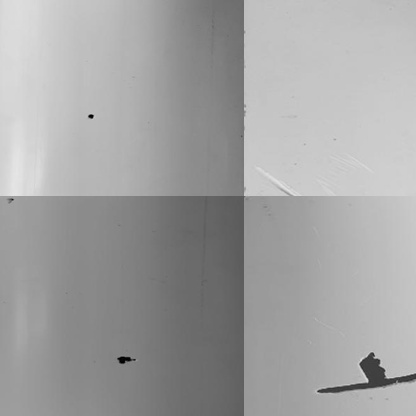kongdong: (314, 349, 413, 394), (116, 353, 136, 365), (85, 110, 94, 119)
sunshang: (256, 162, 297, 197)
